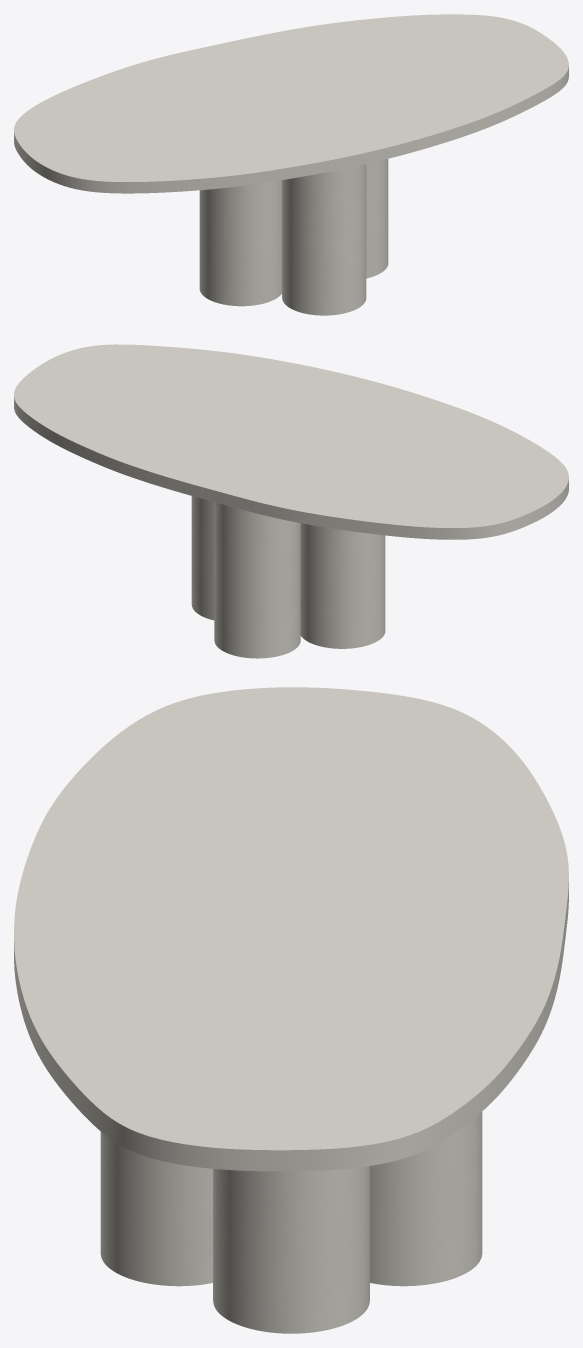
File: pale_danish_standard_secondtable.glb
The picture shows the model from 3 angles, top to bottom: view 1: azimuth 30°, elevation 25°; view 2: azimuth 150°, elevation 25°; view 3: azimuth 270°, elevation 25°; orthographic projection. The views are drawn at different scales.
Visible parts, largest first — view 1: standard_danish, secondtable; view 2: standard_danish, secondtable; view 3: standard_danish, secondtable.
Part boxes in pixels (box(x1,y1,x2,y2)): standard_danish: box(14, 14, 568, 193); secondtable: box(199, 159, 388, 315); standard_danish: box(14, 344, 568, 539); secondtable: box(191, 496, 385, 658); standard_danish: box(14, 687, 568, 1171); secondtable: box(100, 1112, 482, 1333).
Size of the model in its own units: 7.5 by 2.5 by 3.8.
Materials: 1 (1 with a texture image).
